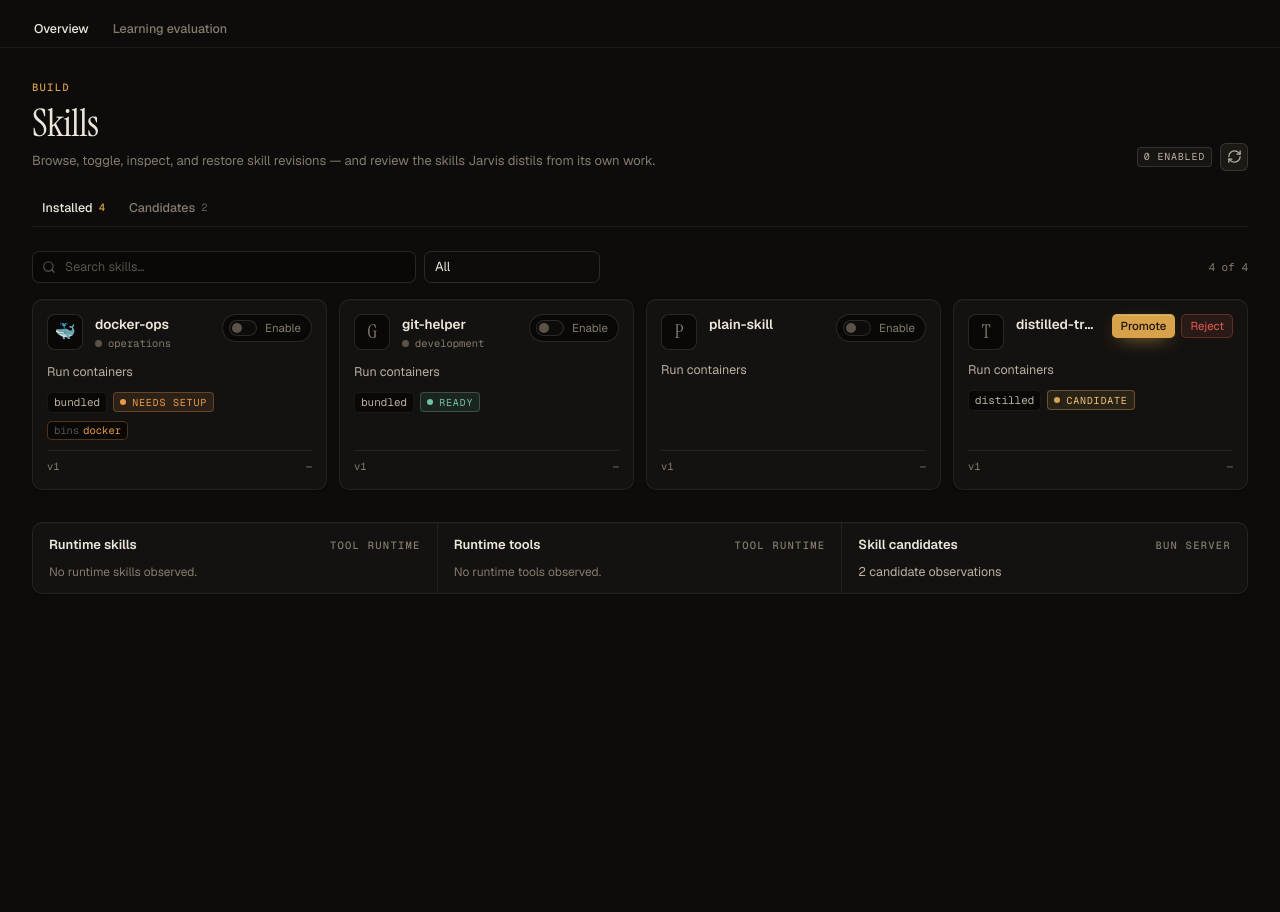
Test: Skills eligibility › lists declared and unmet requirements in the inspector
Click the button with aria-label "Inspect skill: docker-ops" at (132, 324), box [95,314,169,334]
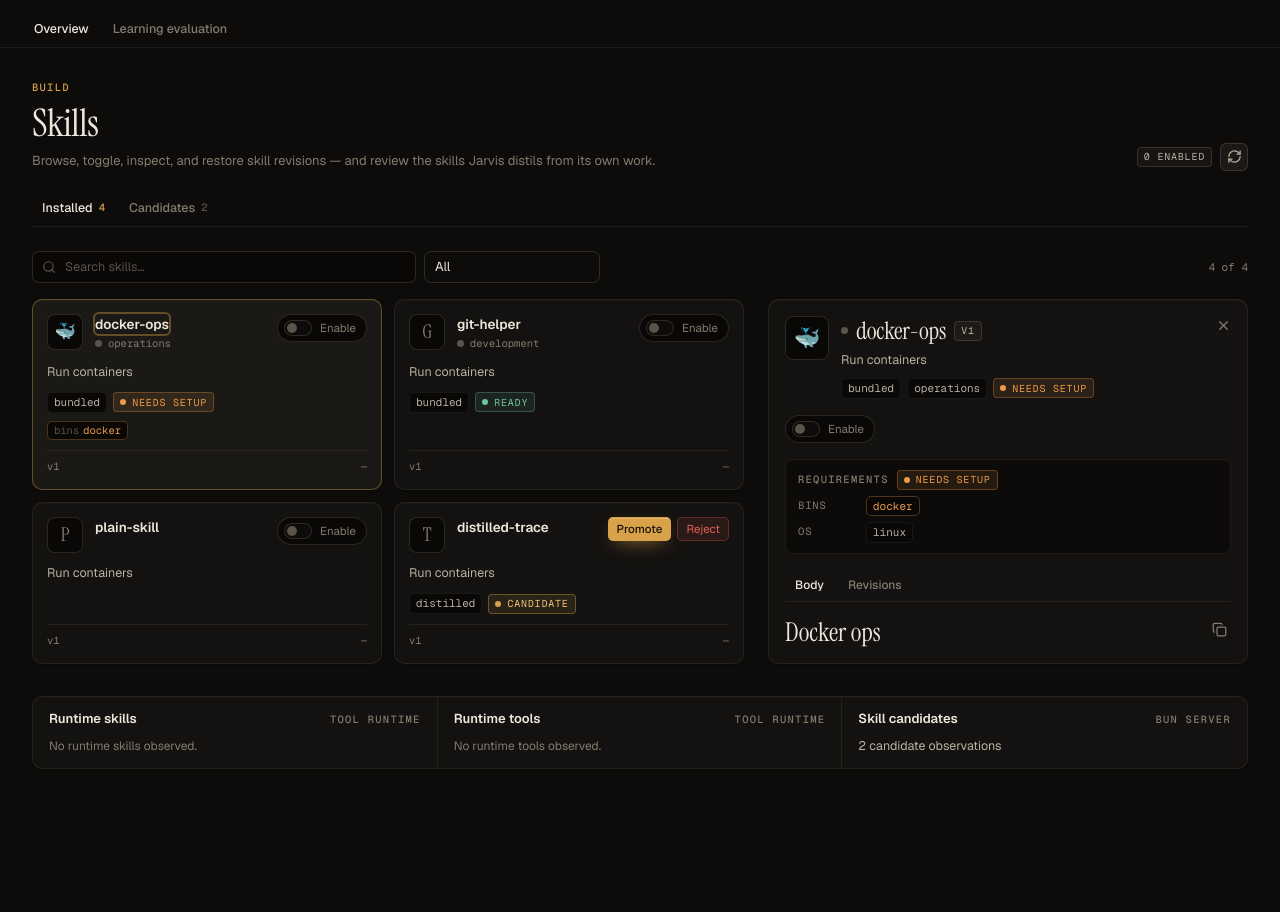
Now the text "Requirements" is shown, box [798,472,889,488]
Now the text titled "Missing" reads "docker", box [873,499,913,513]
Now the text titled "Satisfied" reads "linux", box [873,525,906,539]
